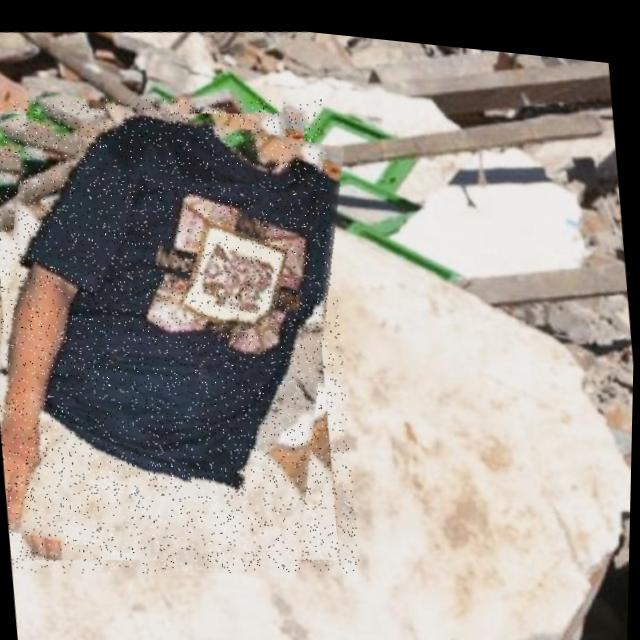Person in Rubble: (0, 65, 370, 600)
